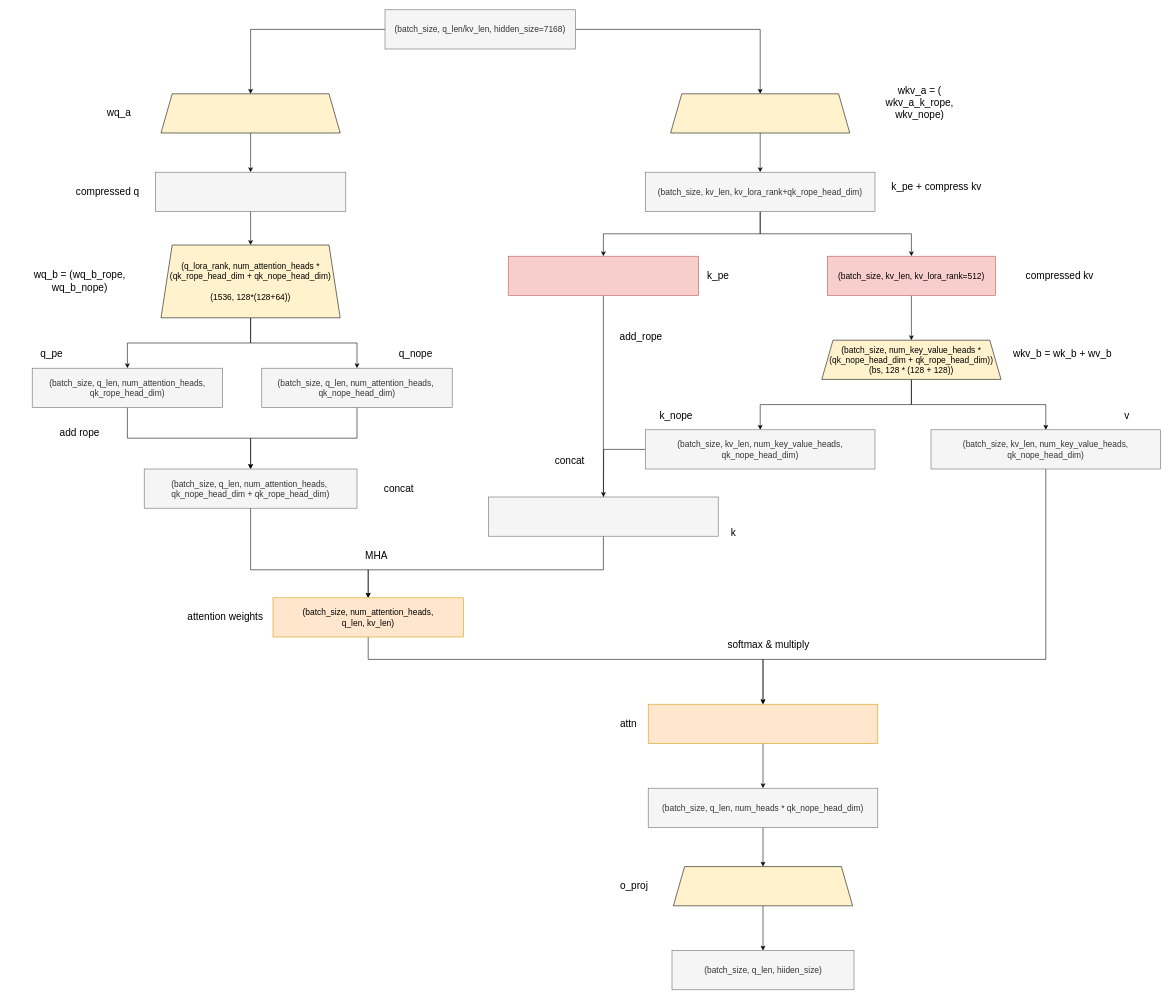
Image size: 1170x1000. Some labels were removed from this diagram. Each missing label, with the centre of its shape:
"(batch_size, kv_len, num_key_value_heads, qk_rope_head_dim + qk_nope_head_dim)" goes at point 603,516.
"(batch_size, kv_len, qk_rope_head_dim=64)" goes at point 603,275.
"(batch_size, q_len, num_attention_heads, qk_nop e_head_dim)" goes at point 763,723.
"(batch_size, q_len, q_lora_rank)" goes at point 250,191.
"(hidden_size, kv_lora_rank + qk_rope_head_dim=576)" goes at point 760,113.
"(hidden_size, q_lora_rank) (7168, 1546)" goes at point 250,113.
"(num_heads * qk_nope_head_dim, hiiden_size)" goes at point 763,886.
